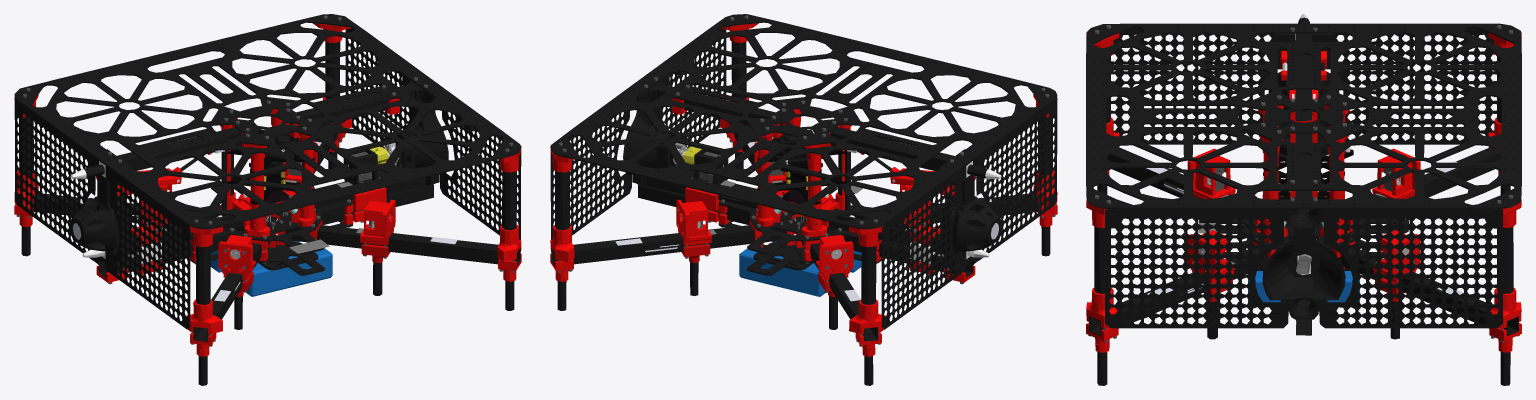
The model's file is base_link_hyper.dae.
3 views of the same model, side by side, from view 1: azimuth 30°, elevation 25°; view 2: azimuth 150°, elevation 25°; view 3: azimuth 270°, elevation 25° (orthographic). The views are drawn at different scales.
Visible parts, largest first — view 1: Shape_IndexedFaceSet; view 2: Shape_IndexedFaceSet; view 3: Shape_IndexedFaceSet.
Boxes of the visible parts, left/top/right/bottom form: Shape_IndexedFaceSet: left=14, top=14, right=521, bottom=385; Shape_IndexedFaceSet: left=550, top=14, right=1057, bottom=385; Shape_IndexedFaceSet: left=1086, top=14, right=1521, bottom=385.
Size of the model in its own units: 0.5686 by 0.5202 by 0.244.
